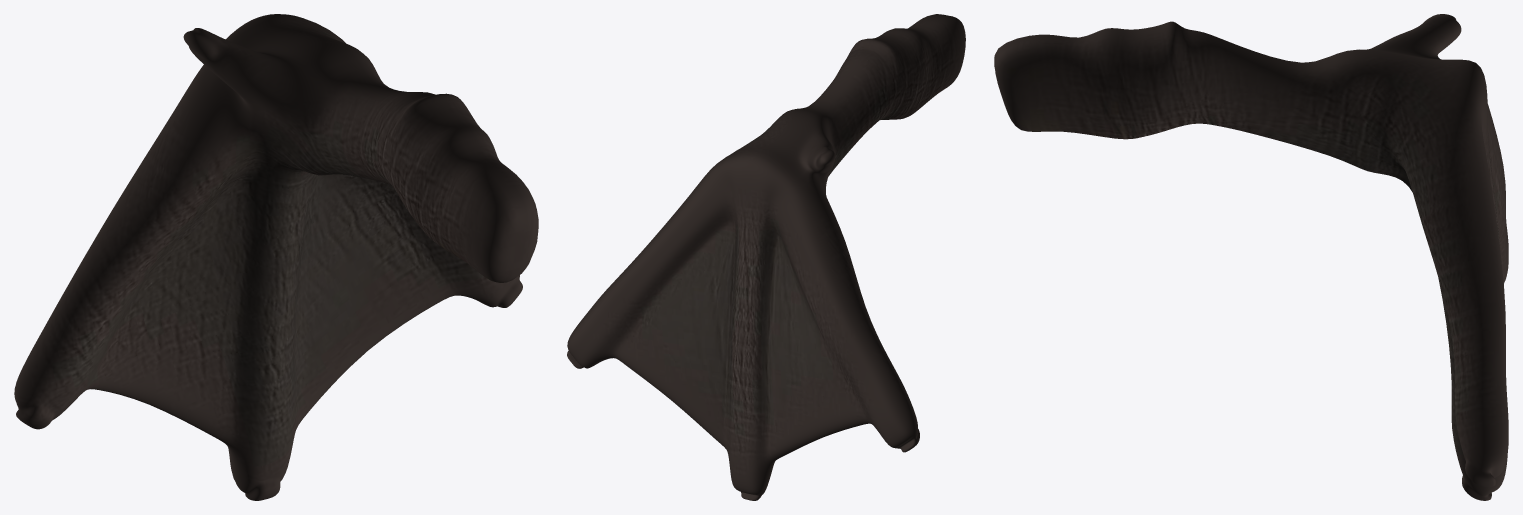
The model's file is gooseLeftLeg.obj.
3 renders of one model, left to right at view 1: azimuth 30°, elevation 25°; view 2: azimuth 150°, elevation 25°; view 3: azimuth 270°, elevation 25°, orthographic. The views are drawn at different scales.
Visible parts, largest first — view 1: leftLeg; view 2: leftLeg; view 3: leftLeg.
Part boxes in pixels (left/top/right/bottom): leftLeg: left=14, top=14, right=538, bottom=500; leftLeg: left=567, top=14, right=965, bottom=500; leftLeg: left=994, top=14, right=1508, bottom=500.
Size of the model in its own units: 8.78 by 8.9 by 8.83.
